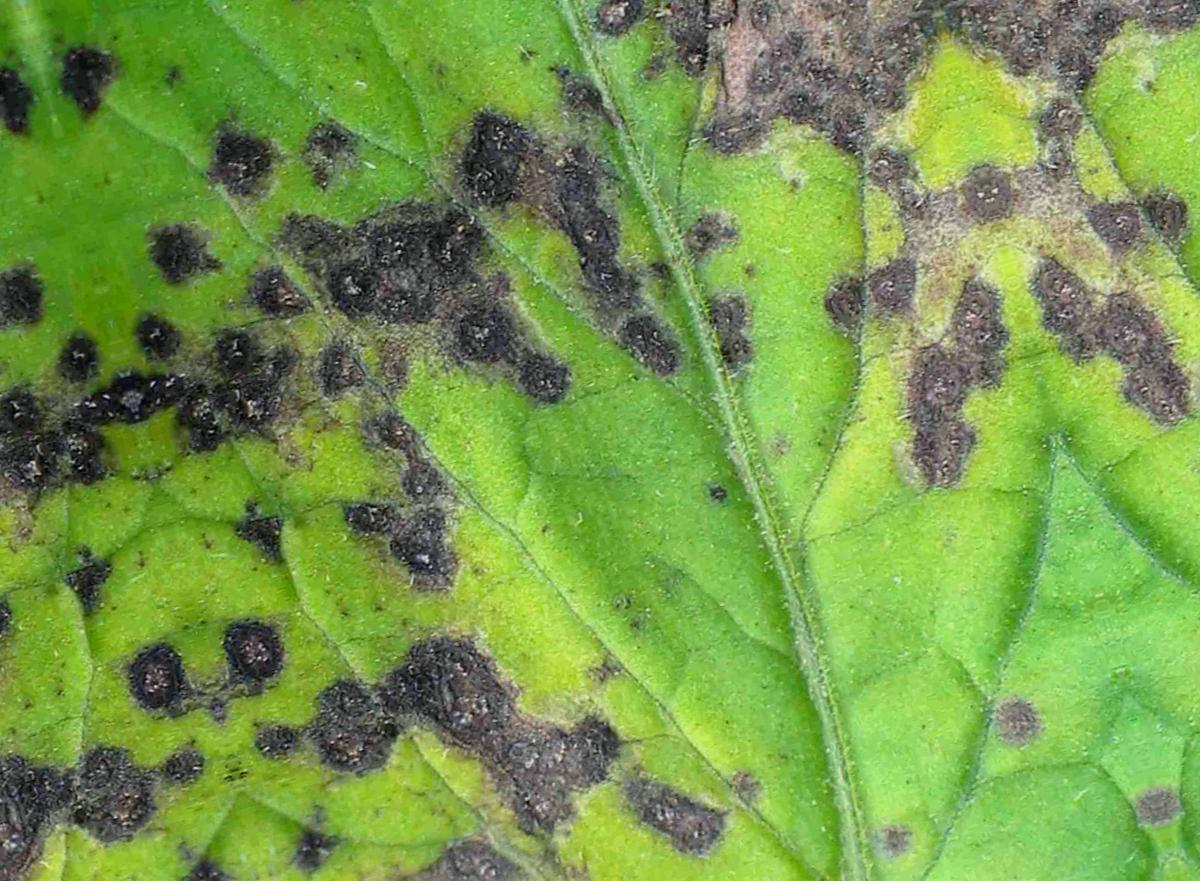Tomato Septoria leaf spot: (34, 0, 1184, 881)
